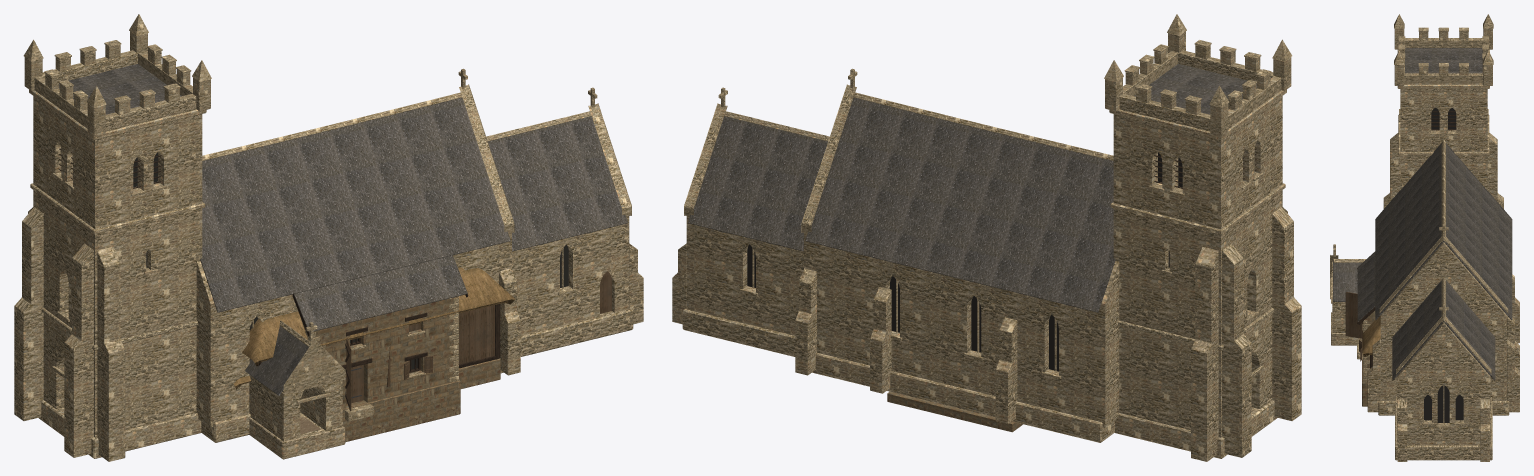
The model's file is england.glb.
3 renders of one model, left to right at view 1: azimuth 30°, elevation 25°; view 2: azimuth 150°, elevation 25°; view 3: azimuth 270°, elevation 25°, orthographic. The views are drawn at different scales.
Parts seen in each view (by area): view 1: church_mesh, mill_mesh, barn_mesh; view 2: church_mesh, mill_mesh; view 3: church_mesh, mill_mesh, barn_mesh.
Boxes of the visible parts, box(x1,y1,x2,y2) form: church_mesh: box(14, 14, 643, 461); mill_mesh: box(292, 255, 468, 442); barn_mesh: box(242, 267, 515, 411); church_mesh: box(672, 14, 1301, 461); mill_mesh: box(887, 391, 1022, 432); church_mesh: box(1330, 14, 1519, 461); mill_mesh: box(1357, 251, 1375, 406); barn_mesh: box(1345, 292, 1380, 368).
Size of the model in its own units: 30.7 by 20.55 by 12.6.
Materials: 15 (10 with a texture image).
